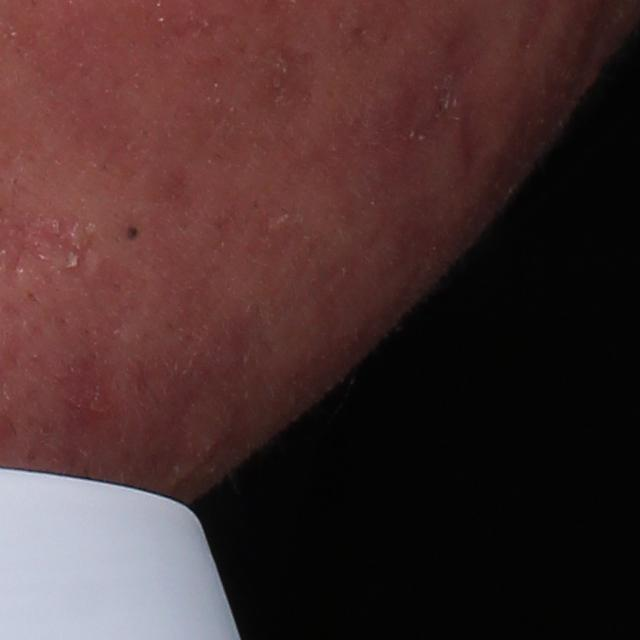nevus: (121, 221, 143, 249)
